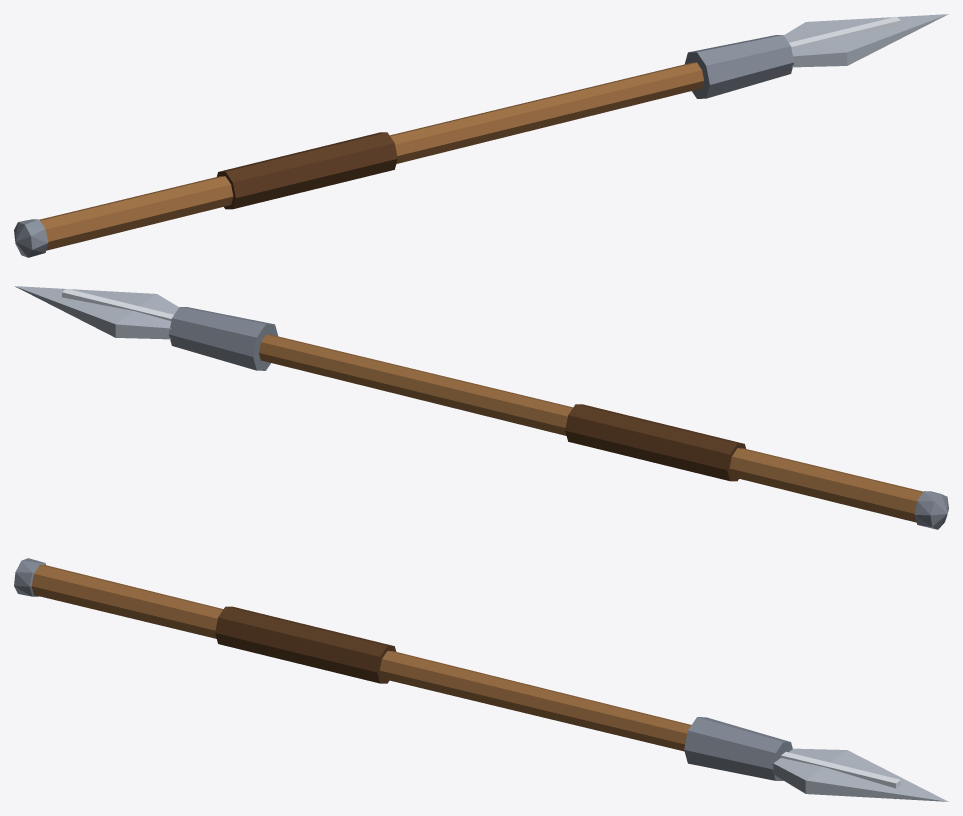
The model's file is drop_steel_spear.glb.
The picture shows the model from 3 angles, top to bottom: view 1: azimuth 30°, elevation 25°; view 2: azimuth 150°, elevation 25°; view 3: azimuth 330°, elevation 25°; orthographic projection.
Visible parts, largest first — view 1: drop_steel_spear; view 2: drop_steel_spear; view 3: drop_steel_spear.
Boxes of the visible parts, x1,y1,x2,y2 form: drop_steel_spear: (14,14,948,257); drop_steel_spear: (14,286,948,529); drop_steel_spear: (14,558,948,801).
Bounding box in the file's own units: 0.843 × 0.0403 × 0.065.
